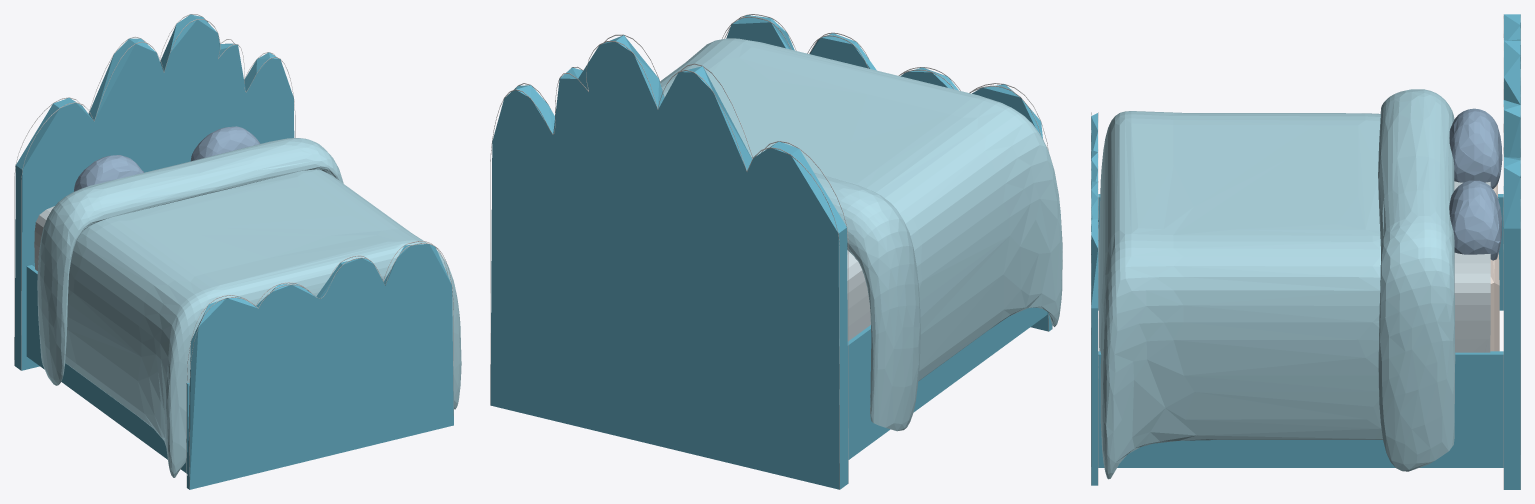
The model's file is sh-bsby-letto-cloud.glb.
3 views of the same model, side by side, from view 1: azimuth 30°, elevation 25°; view 2: azimuth 150°, elevation 25°; view 3: azimuth 270°, elevation 25° (orthographic). The views are drawn at different scales.
Visible parts, largest first — view 1: bed_Mesh.001, Plane.003_Plane.004, Cube.010_Cube.000, letto.003_letto.000; view 2: bed_Mesh.001, Plane.003_Plane.004, letto.003_letto.000, Plane.004_Plane.005; view 3: Plane.003_Plane.004, bed_Mesh.001, Cube.010_Cube.000, Plane.004_Plane.005, letto.003_letto.000, Cube.007_Cube.004.
Part boxes in pixels (left/top/right/bottom): bed_Mesh.001: left=14, top=14, right=453, bottom=489; Plane.003_Plane.004: left=37, top=138, right=461, bottom=477; Cube.010_Cube.000: left=74, top=126, right=260, bottom=191; letto.003_letto.000: left=14, top=14, right=453, bottom=489; bed_Mesh.001: left=490, top=15, right=1052, bottom=489; Plane.003_Plane.004: left=660, top=38, right=1062, bottom=431; letto.003_letto.000: left=490, top=14, right=1052, bottom=489; Plane.004_Plane.005: left=847, top=250, right=870, bottom=341; Plane.003_Plane.004: left=1099, top=89, right=1455, bottom=479; bed_Mesh.001: left=1091, top=14, right=1520, bottom=489; Cube.010_Cube.000: left=1449, top=108, right=1502, bottom=260; Plane.004_Plane.005: left=1454, top=181, right=1490, bottom=352; letto.003_letto.000: left=1091, top=14, right=1520, bottom=489; Cube.007_Cube.004: left=1490, top=184, right=1499, bottom=351.
Size of the model in its own units: 0.9996 by 1 by 1.
